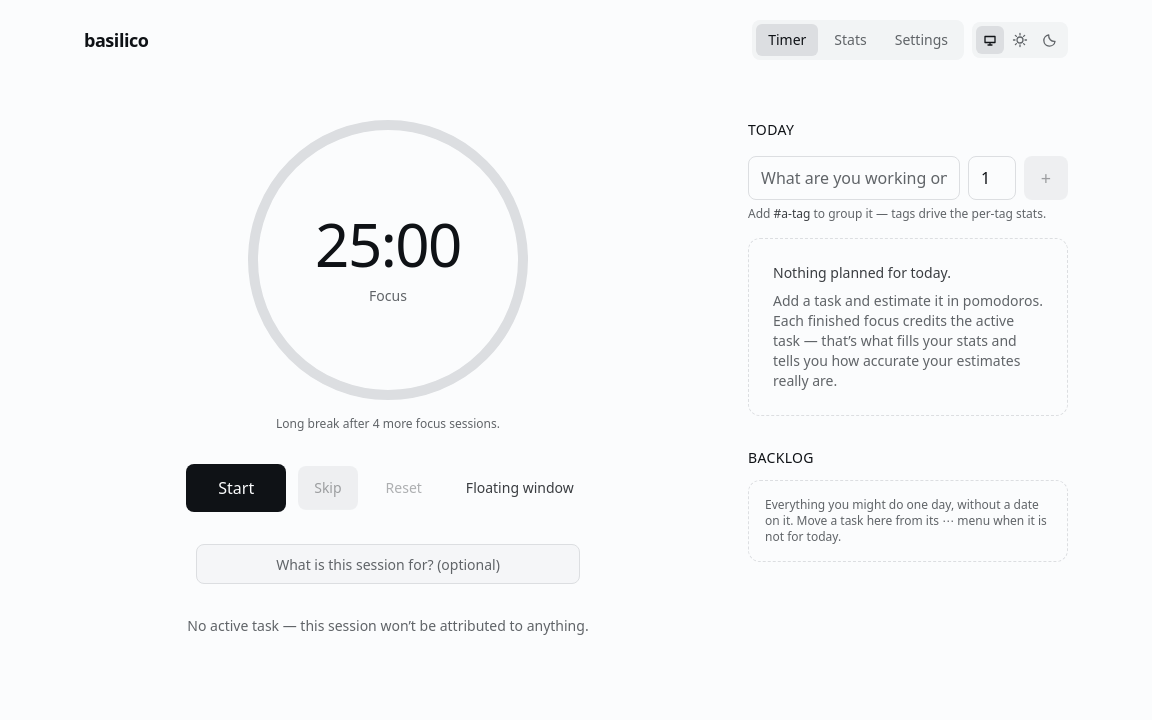
Test case: tasks › edits title, tag and description in one form
Type "Old name" into the field named "Task title".
click(854, 178); type("Old name")  # box [748,156,960,200]
Click the button named "Add".
click(1046, 178)  # box [1024,156,1068,200]
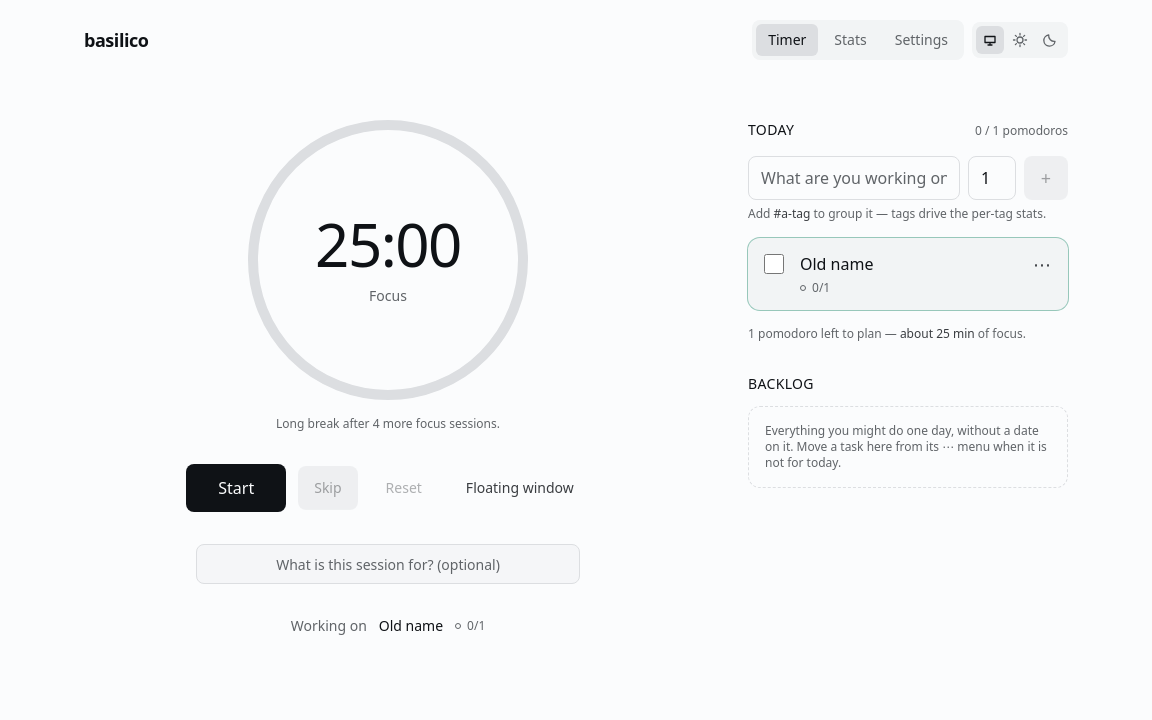
Click the button named "Actions for Old name".
click(1042, 264)  # box [1020,242,1064,286]
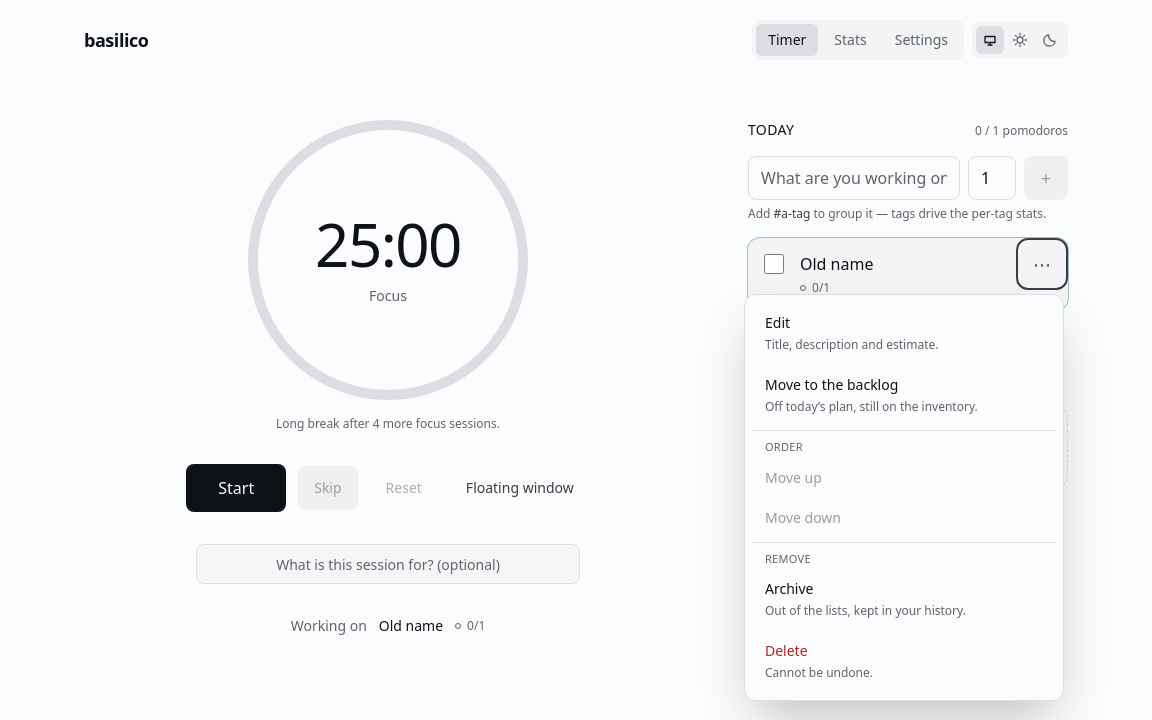
Click the button "Edit Title, description and estimate.".
click(904, 334)  # box [753,303,1055,364]
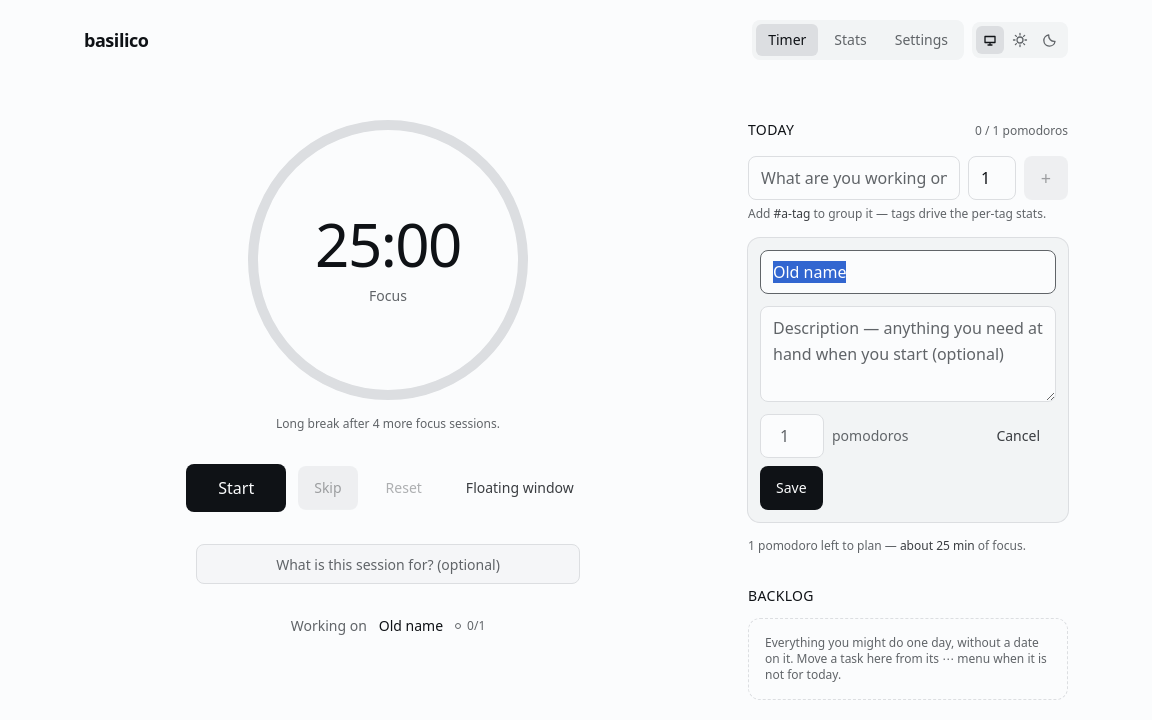
Replace the text in the field named "Title of Old name" with "New name #work" at point(908, 272), box [760,250,1056,294]
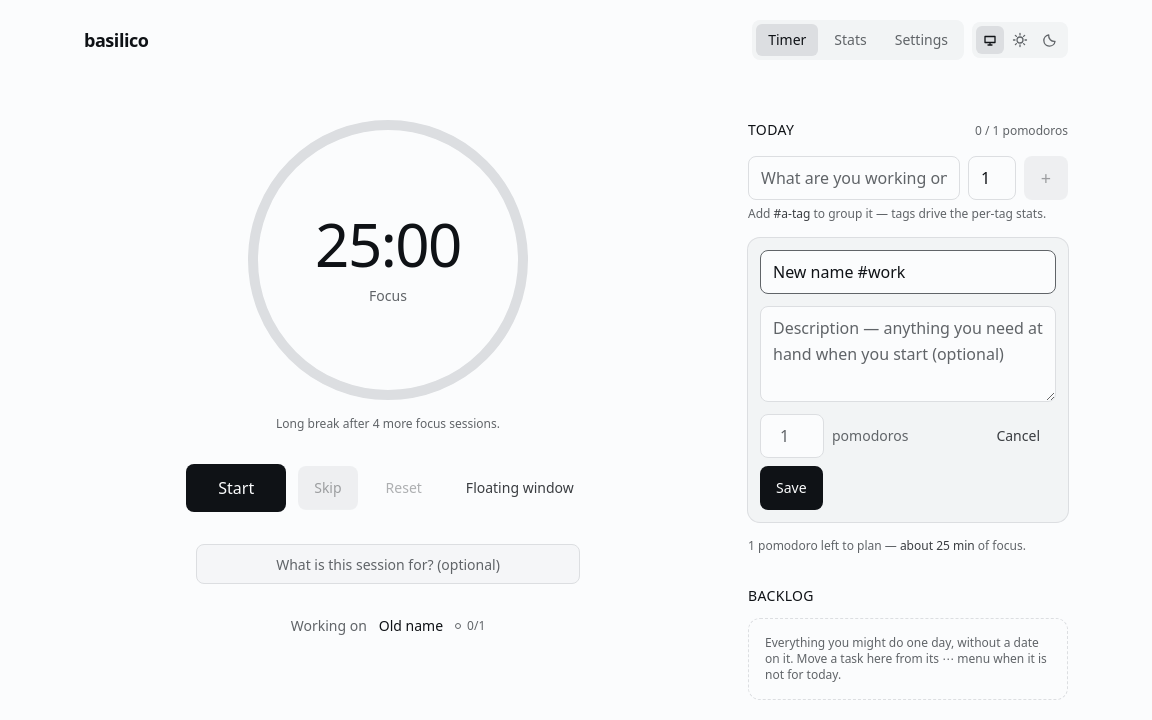
Type "The parser, not the printer" into the text box named "Description of Old name".
click(908, 354); type("The parser, not the printer")  # box [760,306,1056,402]
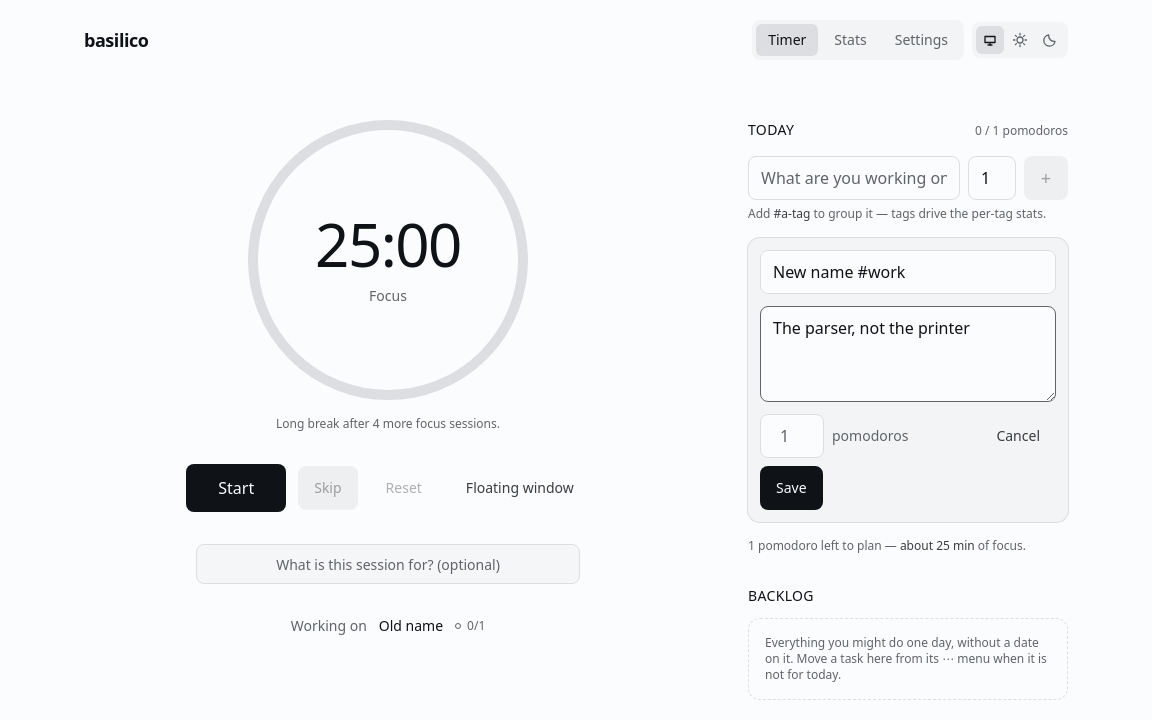
Click the button "Save".
click(791, 488)  # box [760,466,823,510]
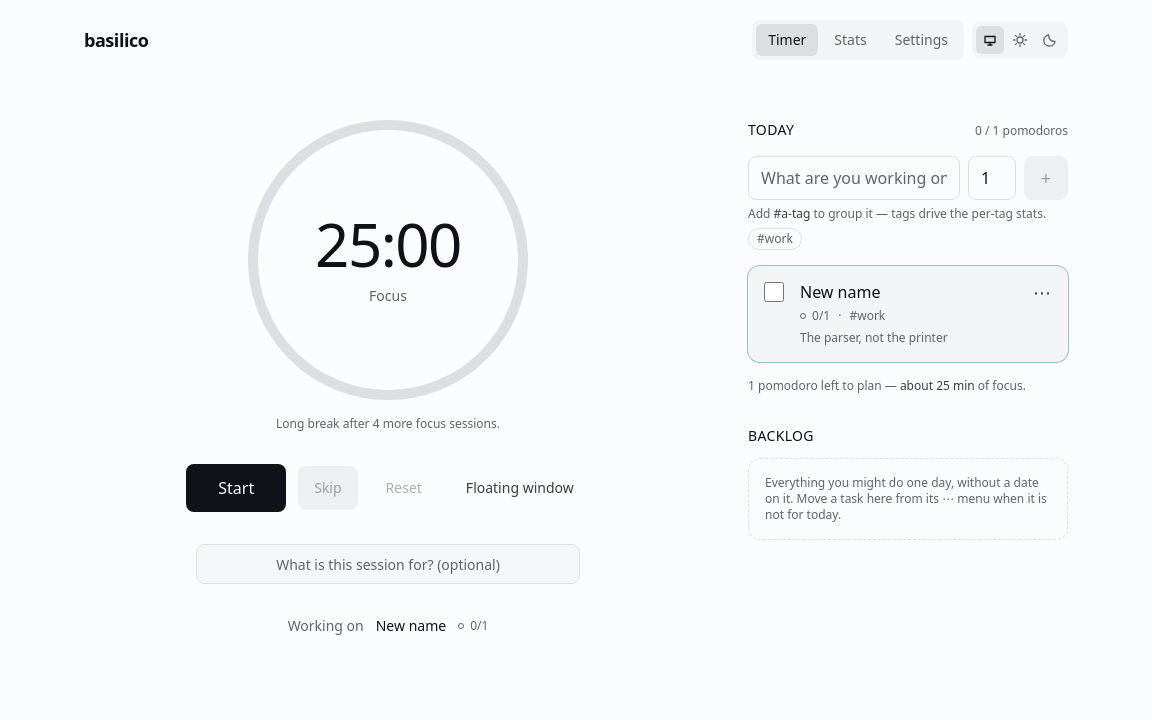
Result: the text "New name" next to "Working on" is shown at [376,616,446,635]
Result: the text "The parser, not the printer" is shown at [800,329,948,346]
